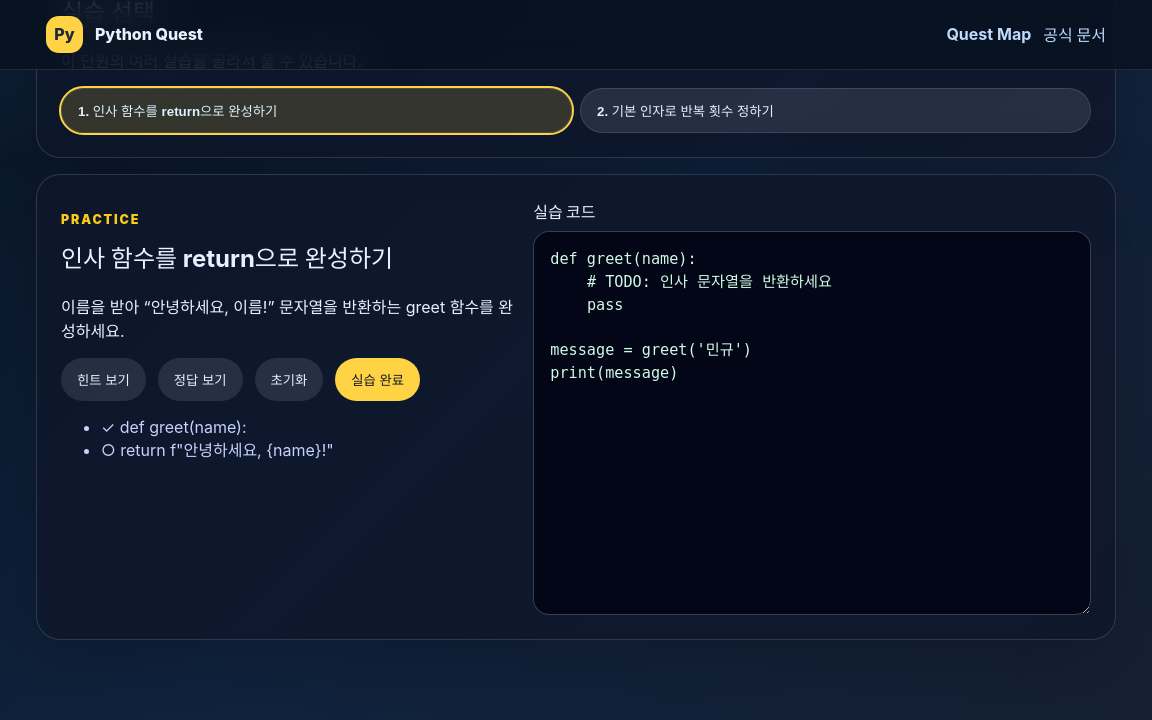
Python Quest MVP › reveals hints, shows the solution, resets code, and marks practice complete
(page scrolled)
Click the button "힌트 보기". click: [103, 380]
box: [61,358,146,401]
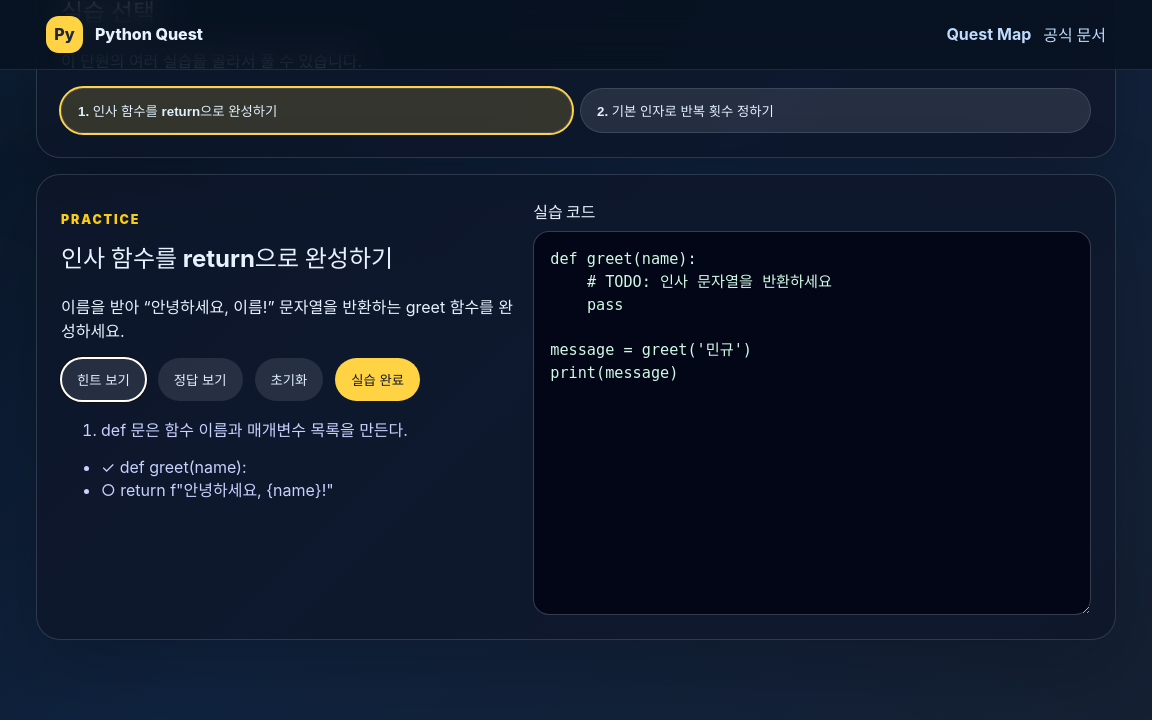
Check: the list item "def 문은 함수 이름과 매개변수 목록을 만든다." is shown, box [101,420,408,440]
Click the button "정답 보기". click: [200, 380]
box: [158,358,243,401]
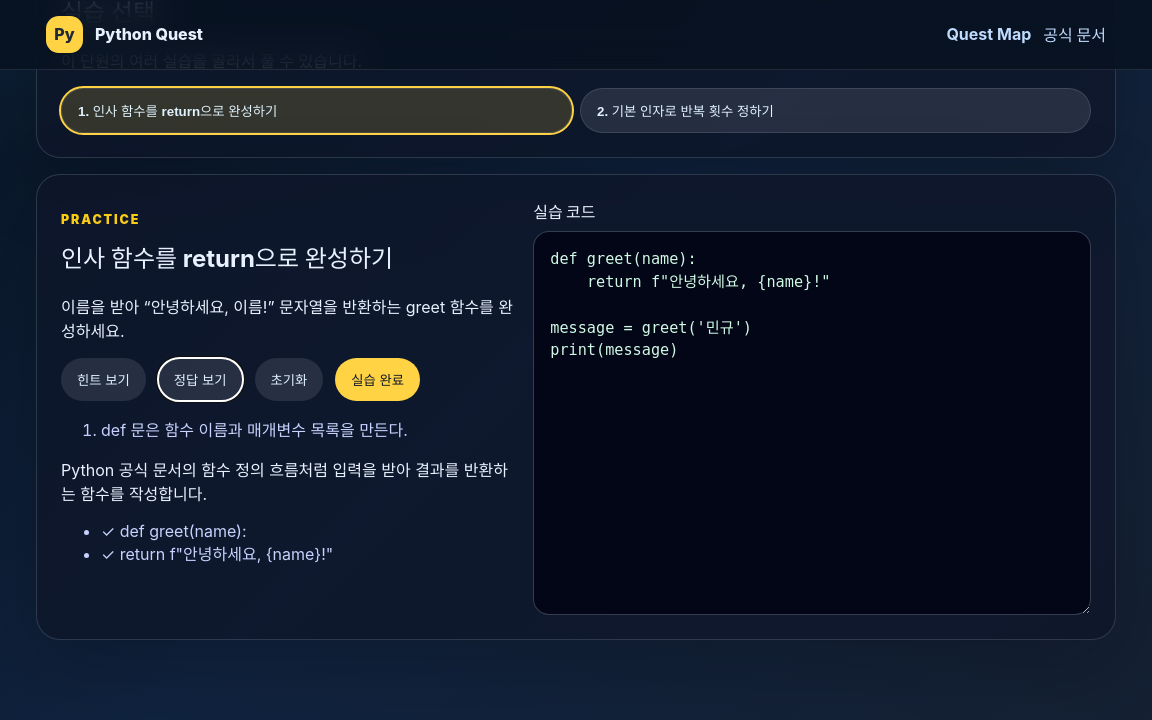
Click the button "초기화". click: [289, 380]
box: [254,358,323,401]
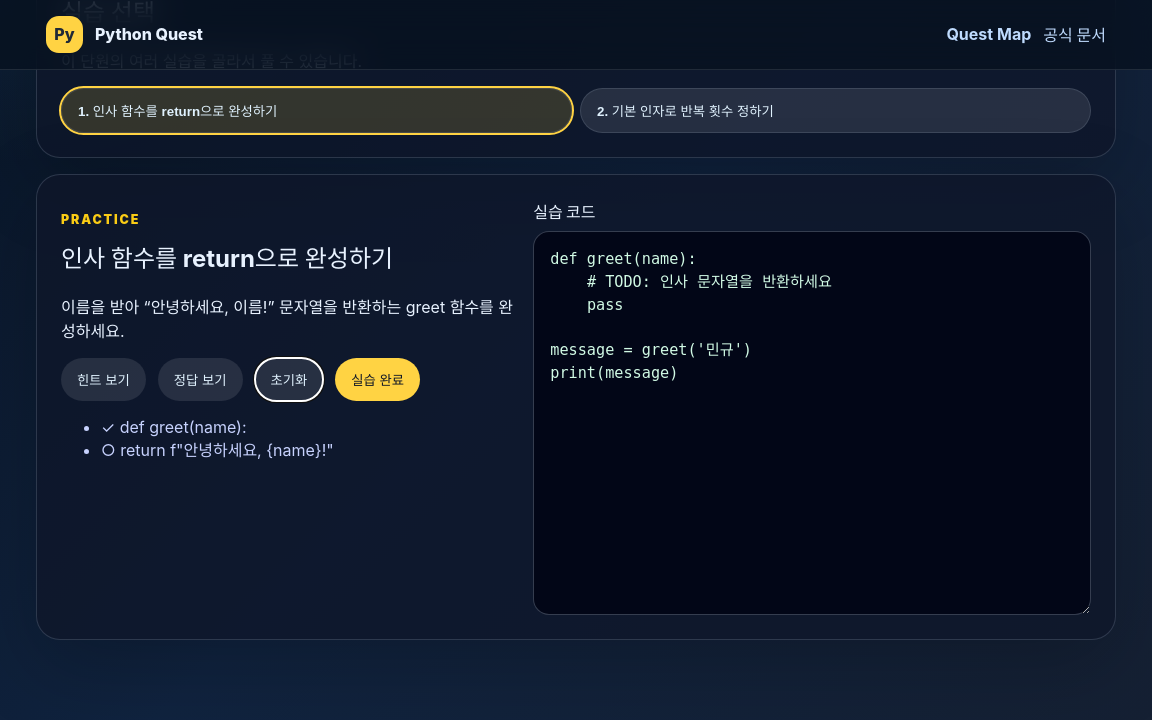
Click the button "실습 완료". click: [378, 380]
box: [335,358,420,401]
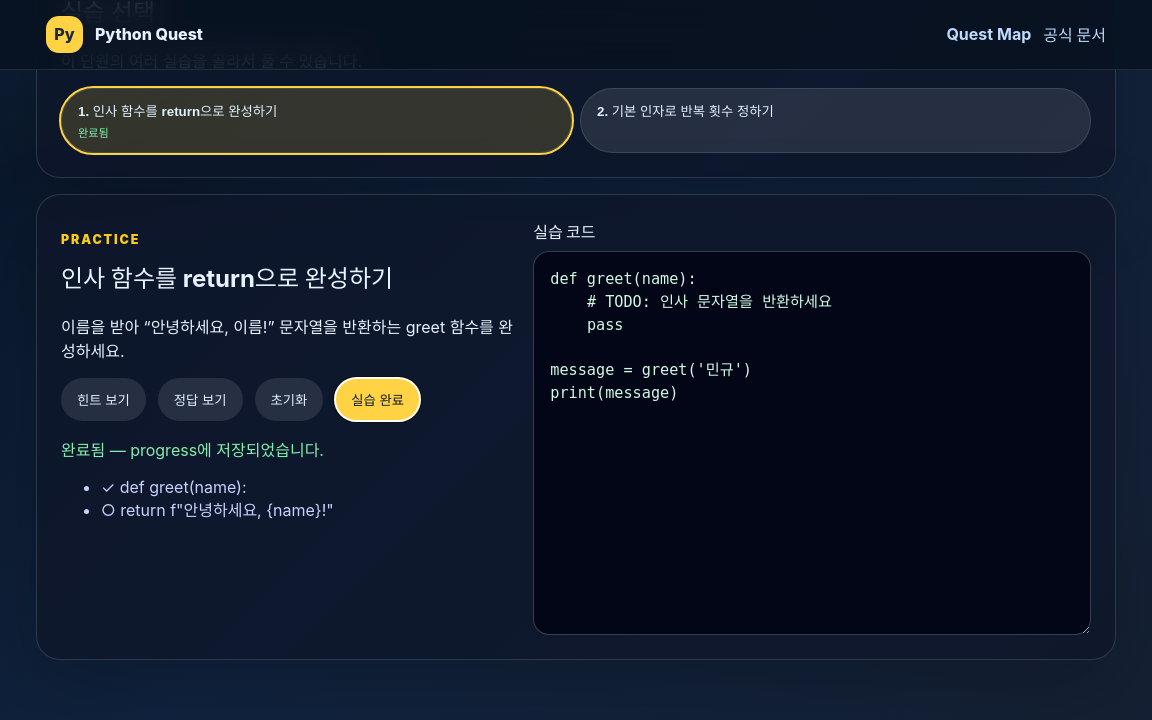
Check: the text "완료됨 — progress에 저장되었습니다." is shown, box [61,440,324,460]
